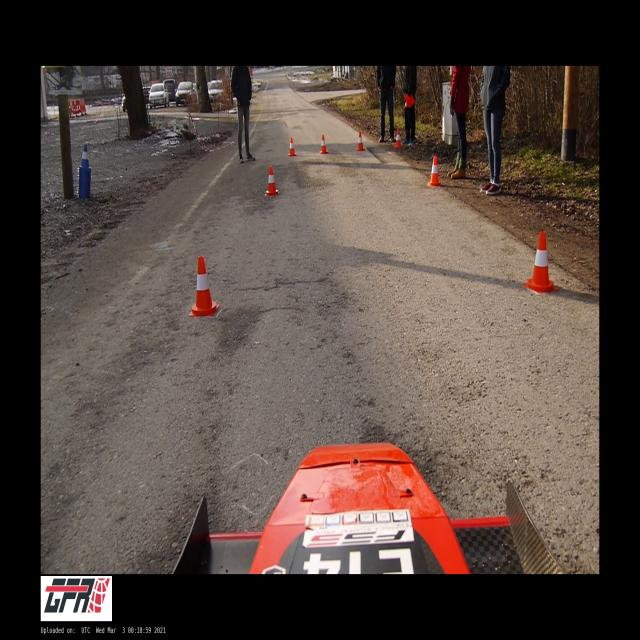blue_cone: (80, 144, 90, 168)
orange_cone: (524, 232, 558, 292), (190, 256, 220, 316), (428, 156, 441, 186), (266, 166, 278, 195), (404, 93, 414, 110), (394, 128, 402, 148), (288, 137, 296, 156), (320, 134, 327, 154), (357, 132, 364, 150)
